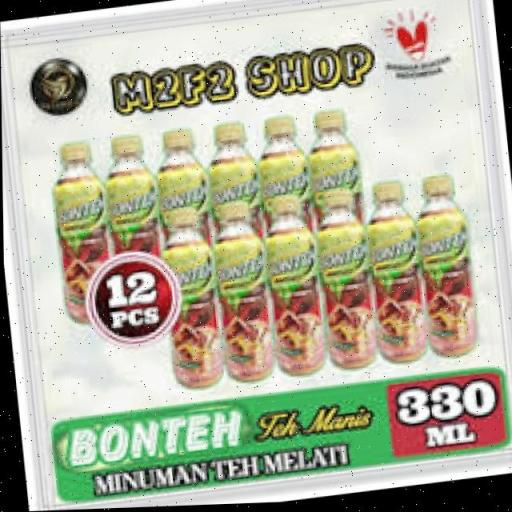plastic: (26, 129, 118, 328), (98, 118, 177, 322), (141, 198, 223, 394), (201, 198, 279, 391), (258, 193, 333, 379), (357, 176, 429, 368), (412, 175, 484, 365), (152, 119, 223, 288), (246, 108, 316, 279), (316, 189, 382, 370), (299, 102, 372, 257), (208, 117, 268, 274)
